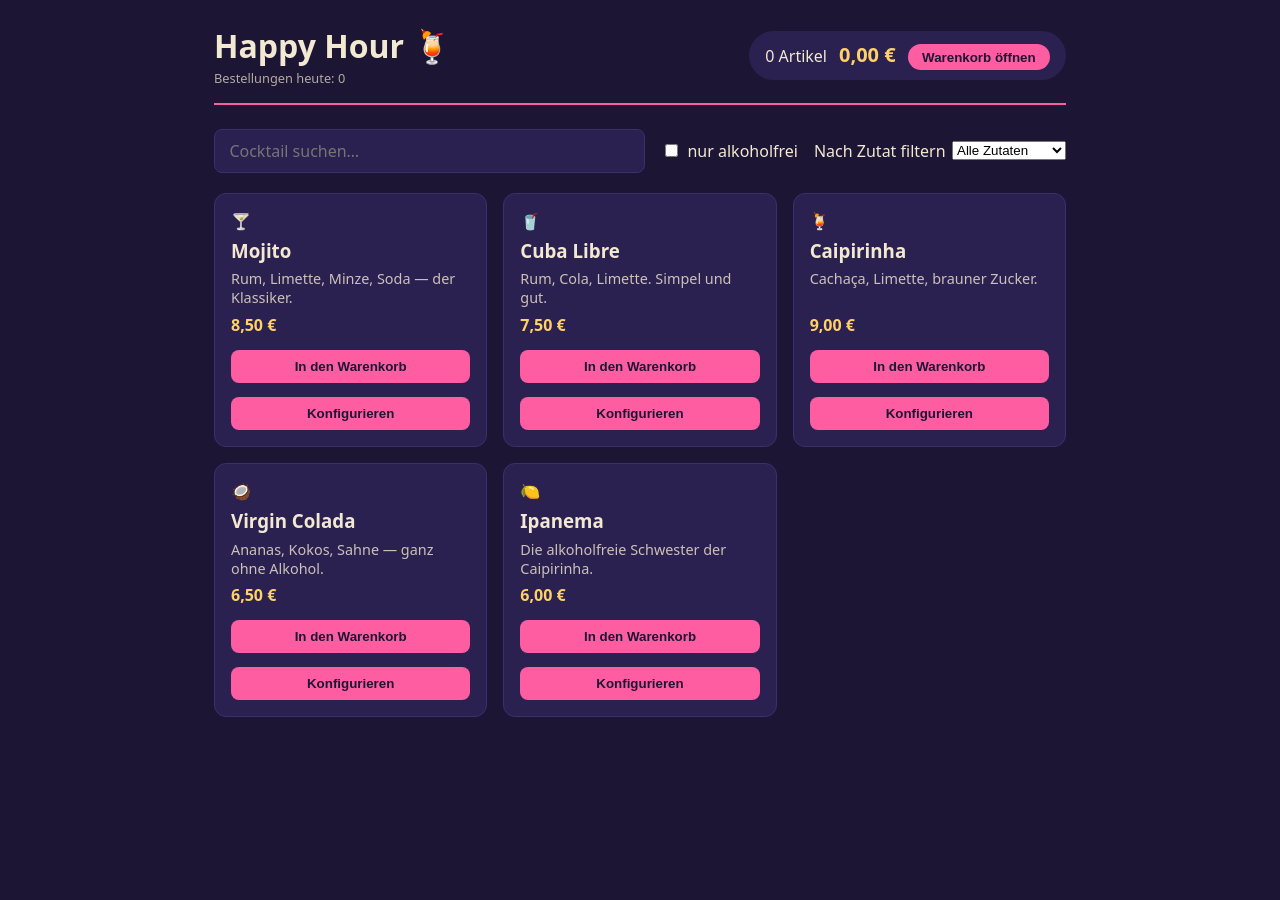
App › öffnet den Warenkorb-Drawer über den Übersichts-Button
The width and height of the screenshot is (1280, 900).
Click the button "Warenkorb öffnen": (979, 57) 908,44 -> 1050,70
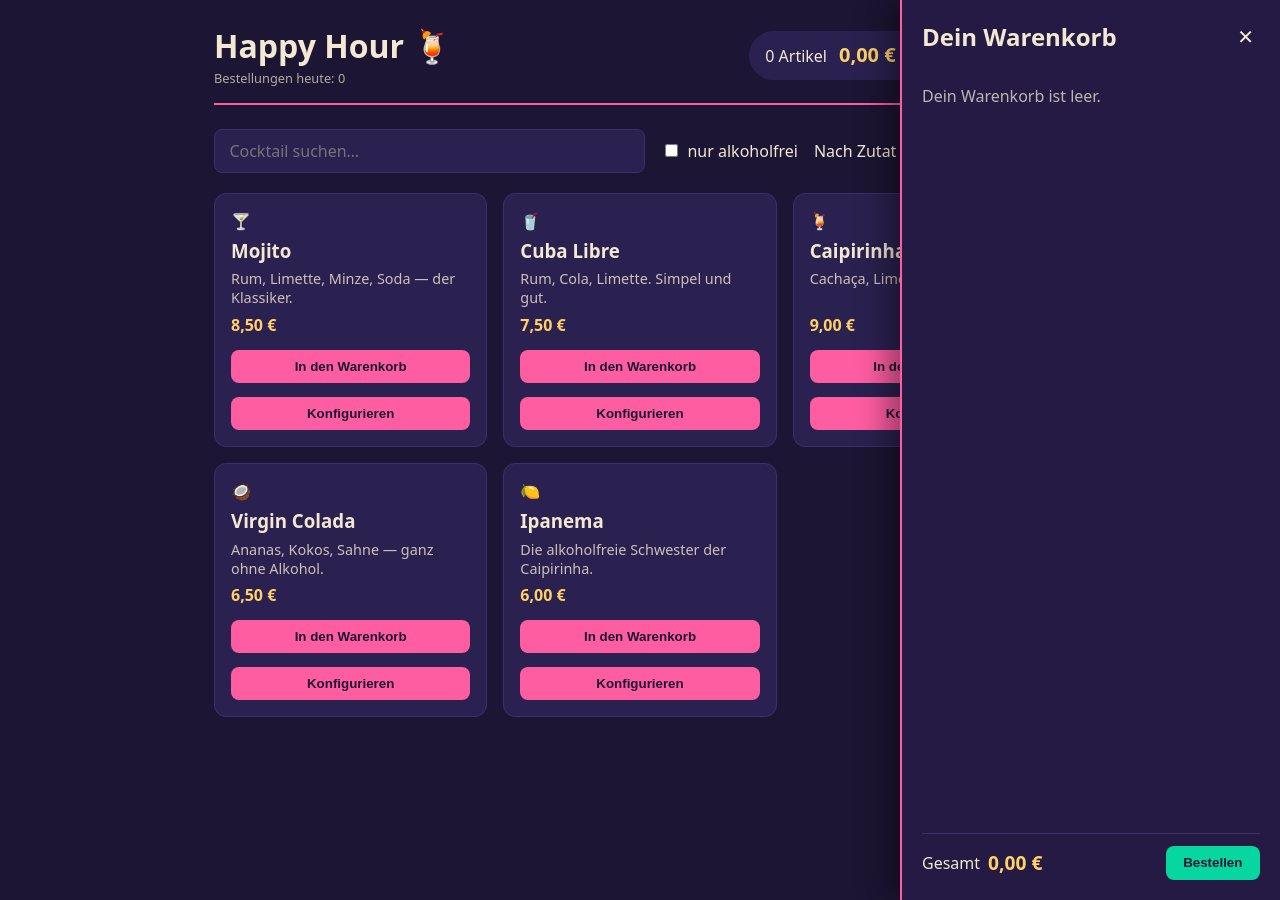
Expected: the dialog "Warenkorb" is shown, 900,0 -> 1279,899
